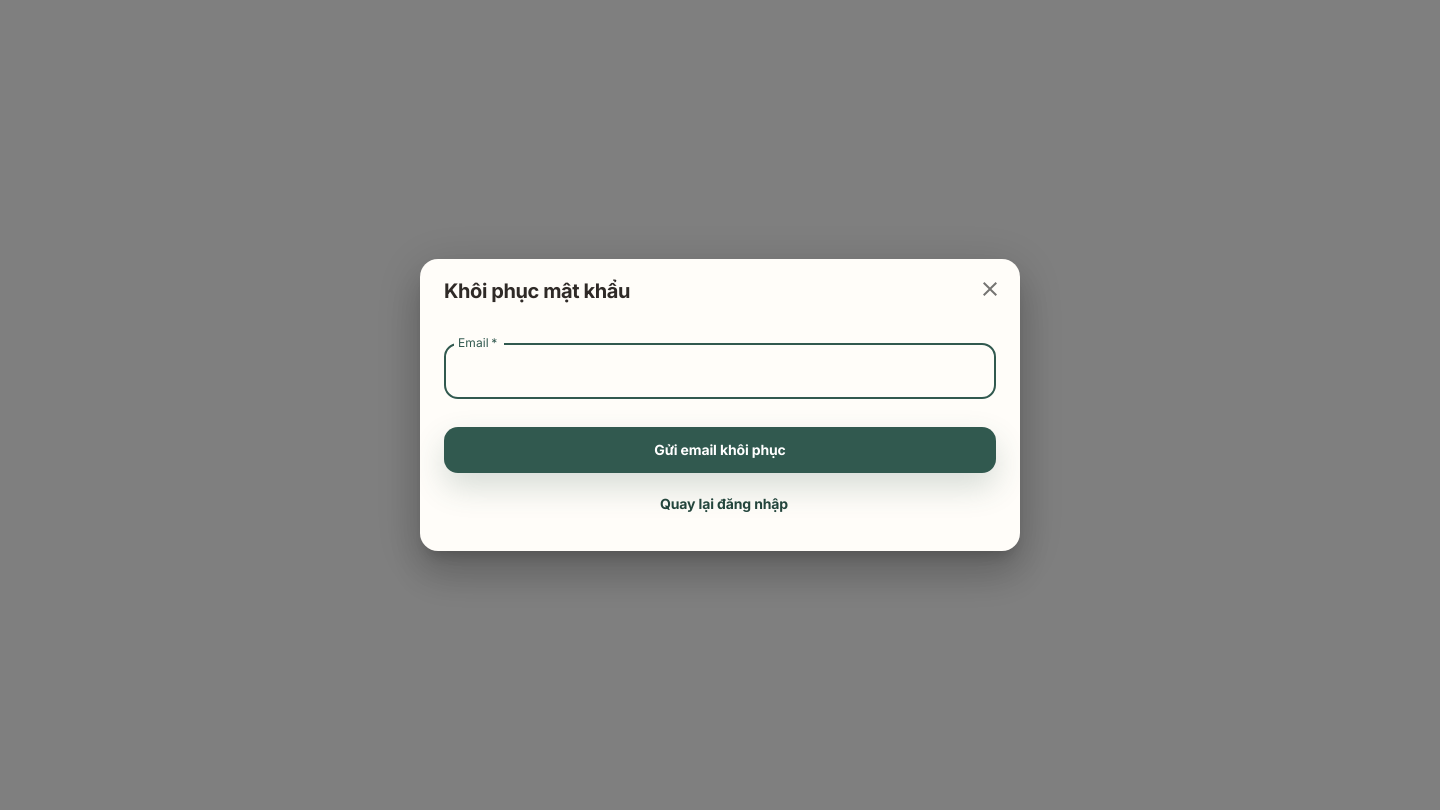
Test: authentication dialog › validates recovery email and displays server acknowledgement
Type "bad-email" into the field labelled "Email *" at coordinates (720, 371), box [444,343,996,399]
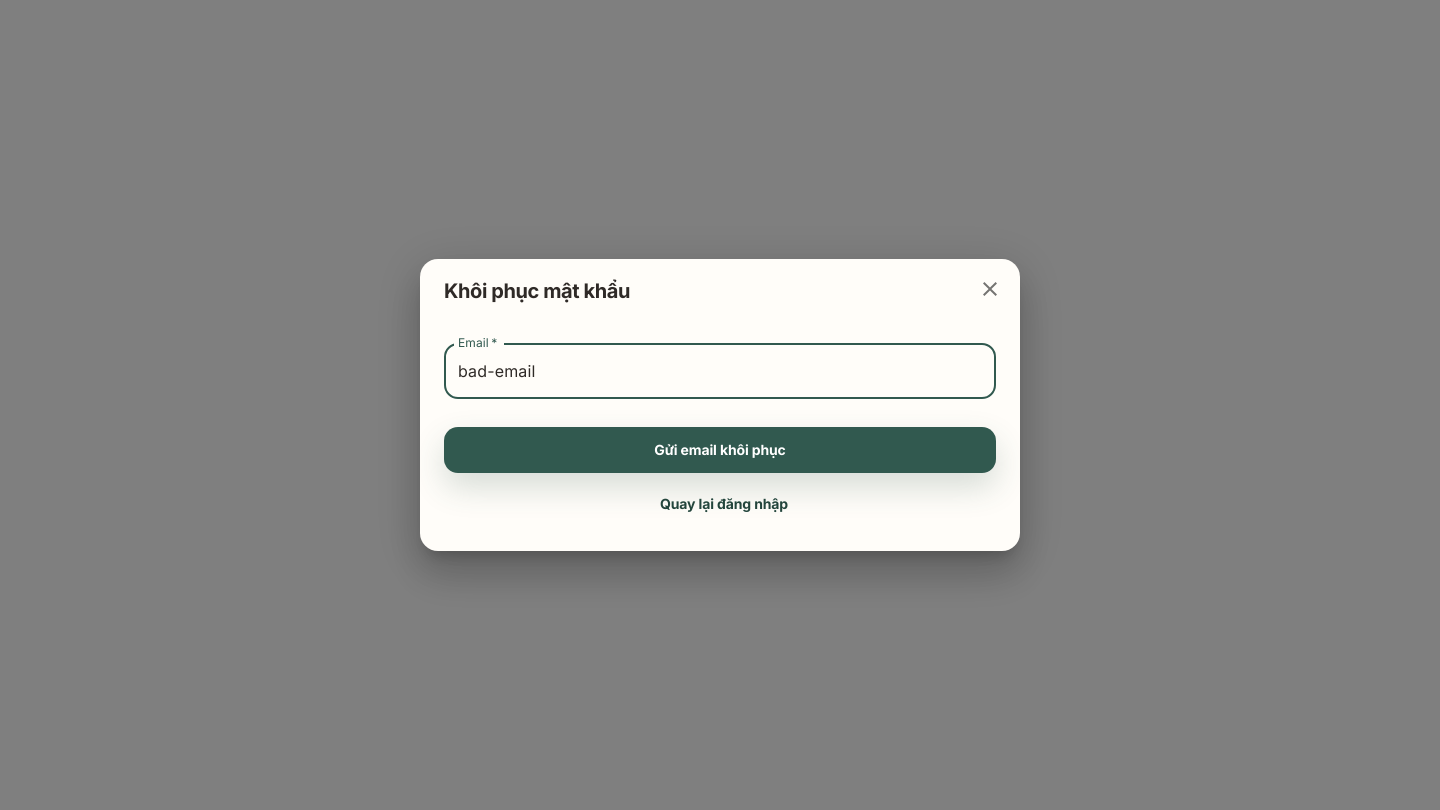
Click the button "Gửi email khôi phục" at coordinates (720, 450), box [444,427,996,473]
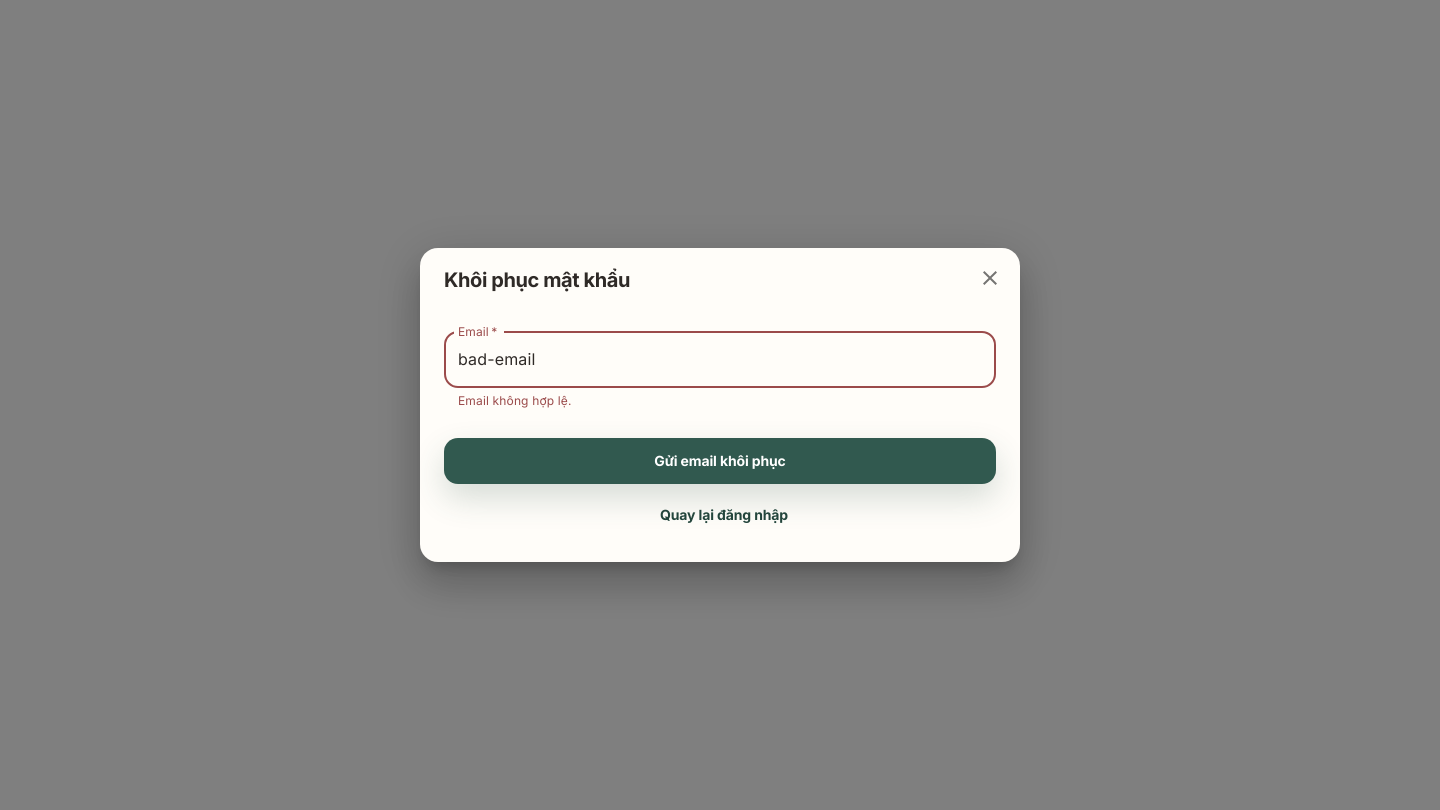
Expected: the text "Email không hợp lệ." is shown, [458,392,572,408]
Replace the text in the field labelled "Email *" with "anh@example.com" at coordinates (720, 360), box [444,332,996,388]
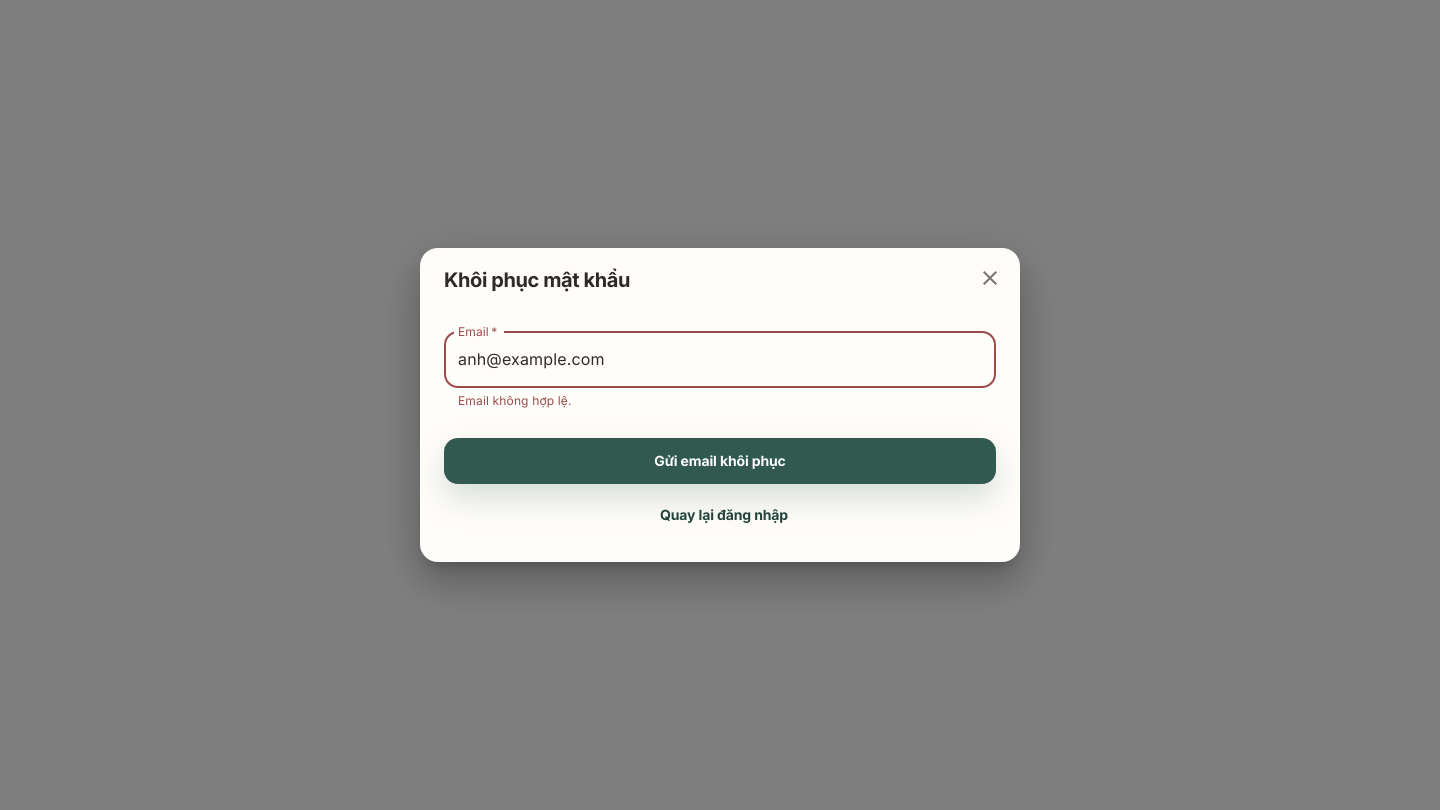
Click the button "Gửi email khôi phục" at coordinates (720, 462), box [444,438,996,484]
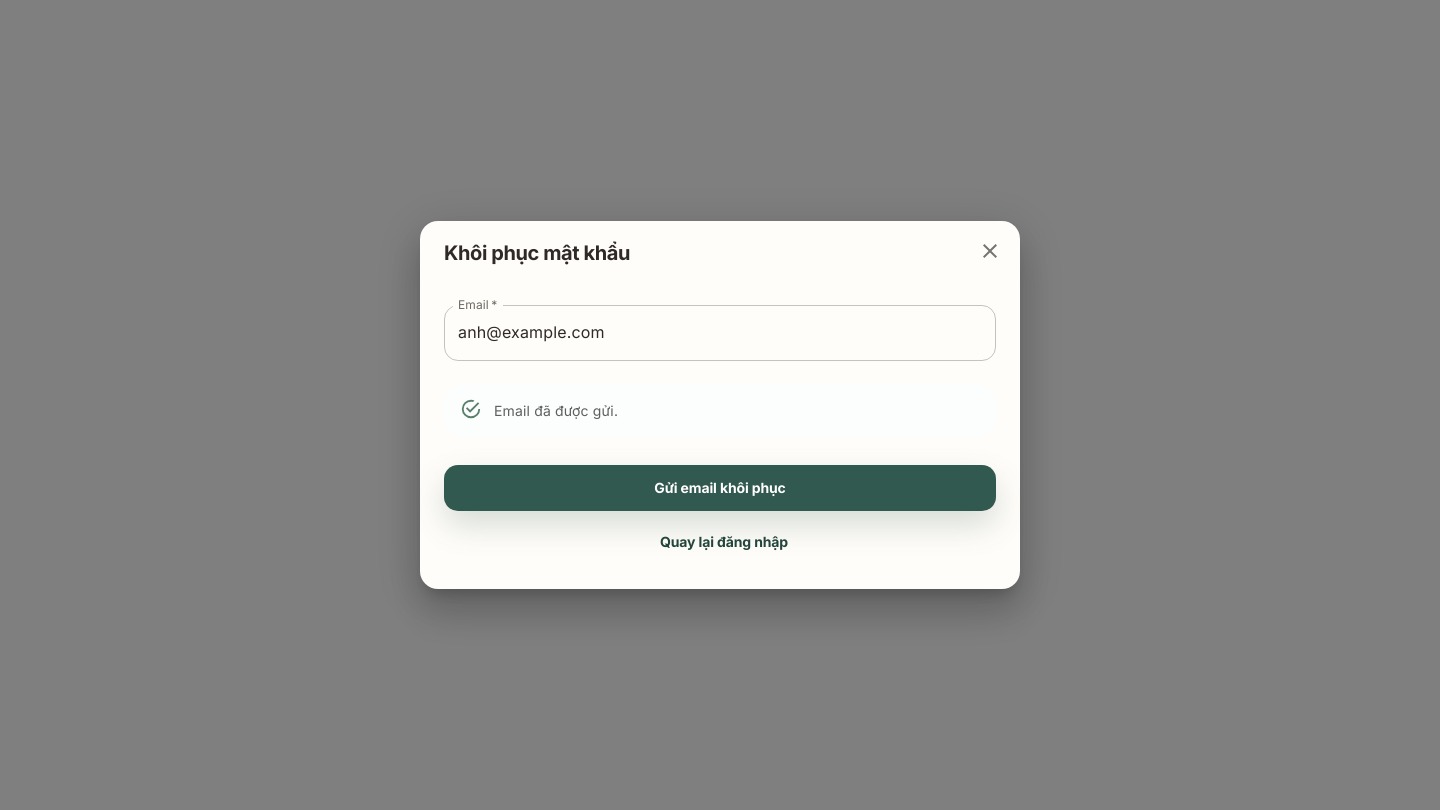
Expected: the text "Email đã được gửi." is shown, [494,402,618,419]
